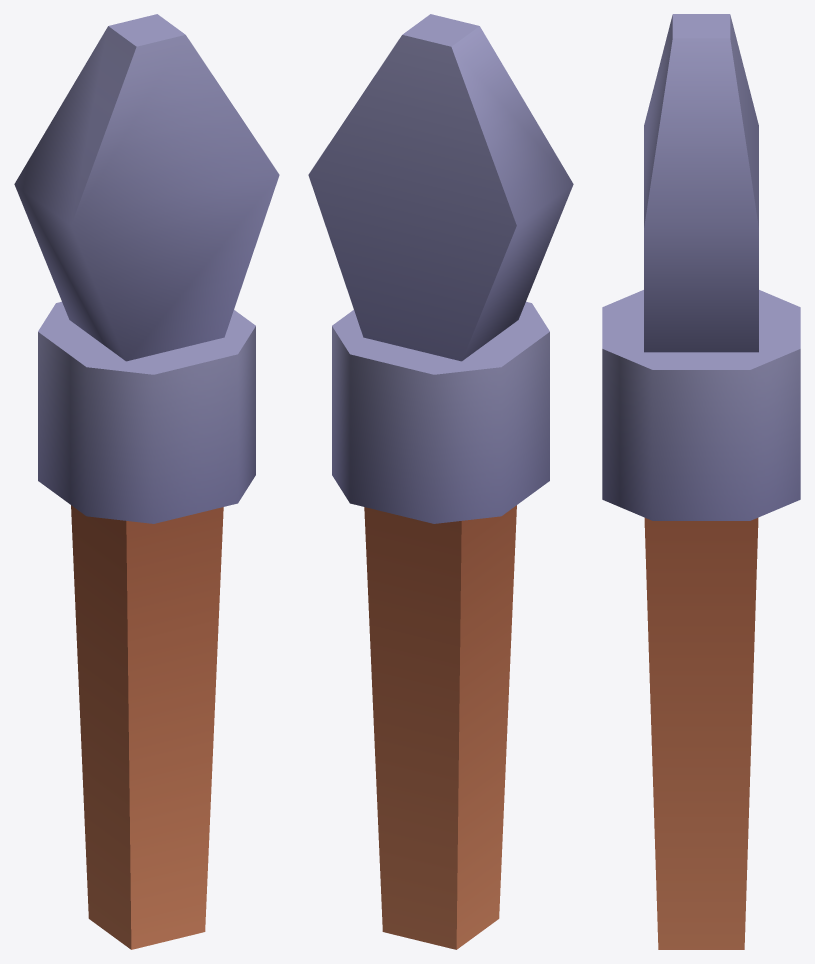
Rendered from weapon-spear.obj.
3 renders of one model, left to right at view 1: azimuth 30°, elevation 25°; view 2: azimuth 150°, elevation 25°; view 3: azimuth 270°, elevation 25°, orthographic.
Parts seen in each view (by area): view 1: weapon-spear; view 2: weapon-spear; view 3: weapon-spear.
Boxes of the visible parts, x1,y1,x2,y2 form: weapon-spear: (14,14,279,949); weapon-spear: (308,14,573,949); weapon-spear: (602,14,800,949).
Bounding box in the file's own units: 0.1463 × 0.6 × 0.119.
Materials: 1 (1 with a texture image).
